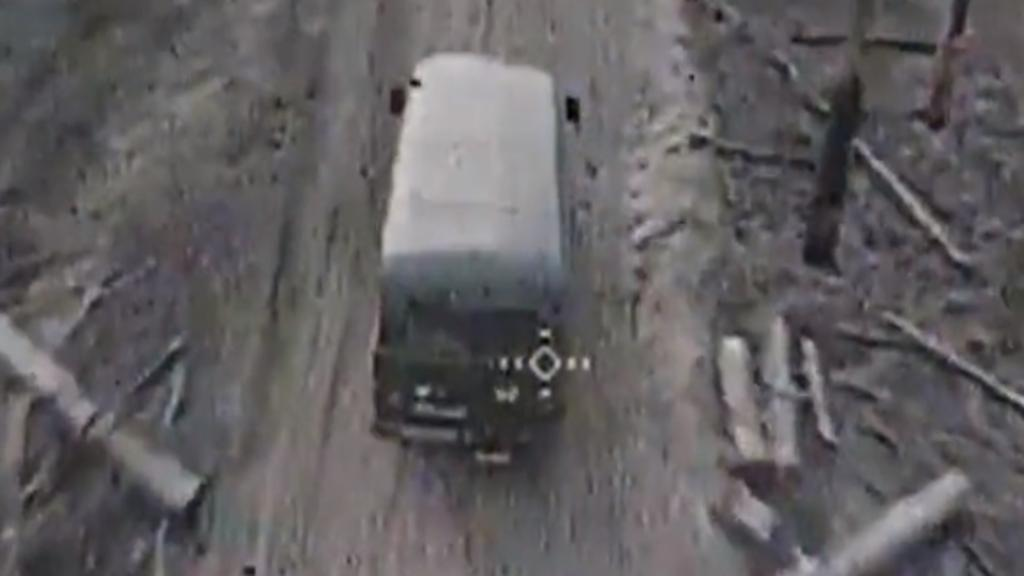CAR: (367, 51, 567, 452)
